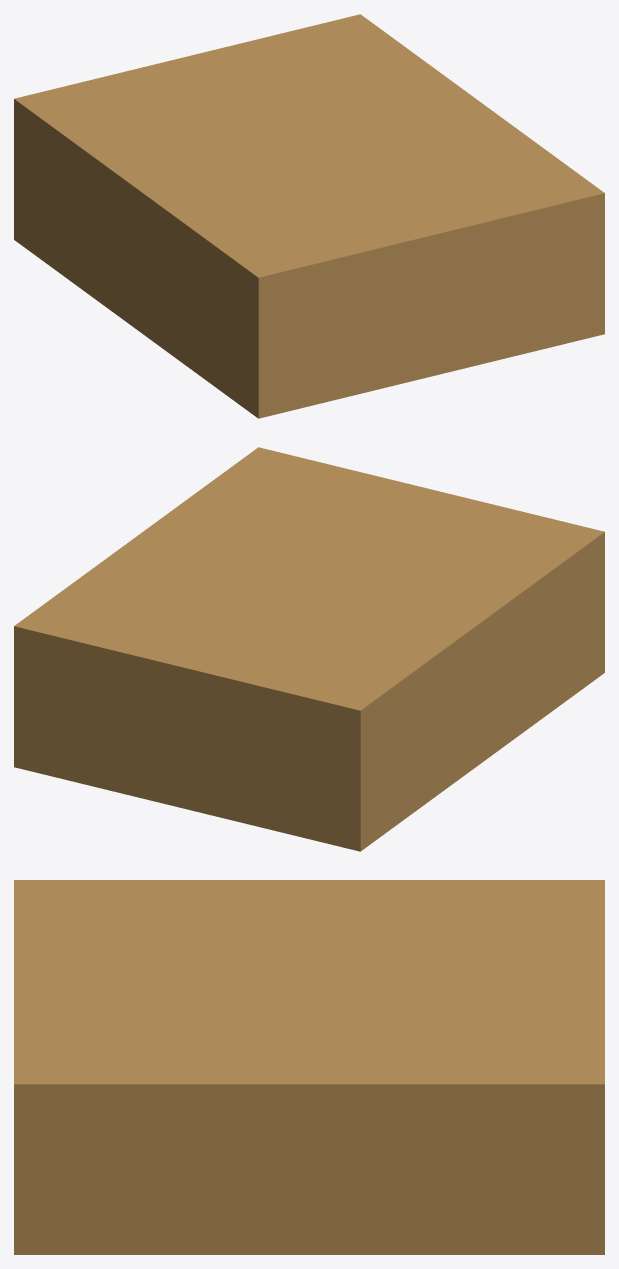
The picture shows the model from 3 angles, top to bottom: view 1: azimuth 30°, elevation 25°; view 2: azimuth 150°, elevation 25°; view 3: azimuth 270°, elevation 25°; orthographic projection. The views are drawn at different scales.
Parts seen in each view (by area): view 1: RUN-082-S02-ribbon; view 2: RUN-082-S02-ribbon; view 3: RUN-082-S02-ribbon.
Part boxes in pixels (<box>): RUN-082-S02-ribbon: <box>14,14,604,418</box>; RUN-082-S02-ribbon: <box>14,447,604,851</box>; RUN-082-S02-ribbon: <box>14,880,604,1254</box>.
Size of the model in its own units: 0.09 by 0.035 by 0.11.
